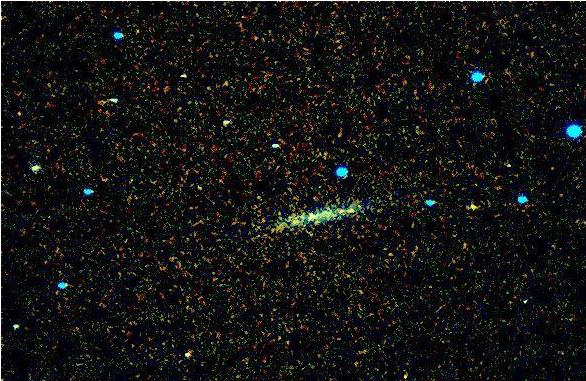star: (295, 196, 325, 226)
